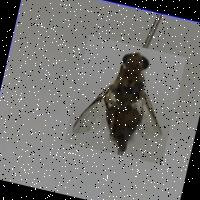Oriental-fruit-fly: (64, 34, 186, 164)
